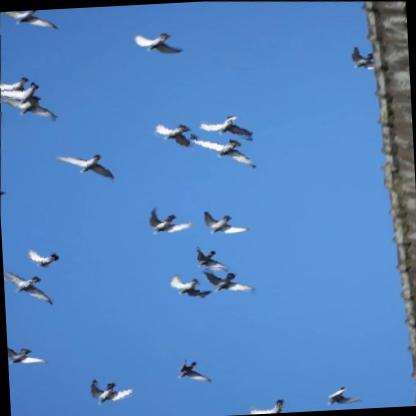bird: (188, 131, 267, 170), (3, 264, 59, 306), (197, 261, 259, 298), (55, 150, 119, 185), (0, 89, 62, 125), (83, 374, 139, 408), (197, 109, 253, 142), (145, 202, 198, 236), (130, 29, 186, 60), (150, 118, 201, 152), (166, 268, 214, 301), (200, 206, 251, 237), (0, 7, 61, 32), (172, 353, 216, 385), (21, 243, 68, 272), (0, 79, 41, 109), (348, 38, 380, 76), (192, 242, 231, 272), (323, 382, 366, 408), (7, 339, 48, 366), (243, 393, 291, 414), (0, 74, 36, 97)
